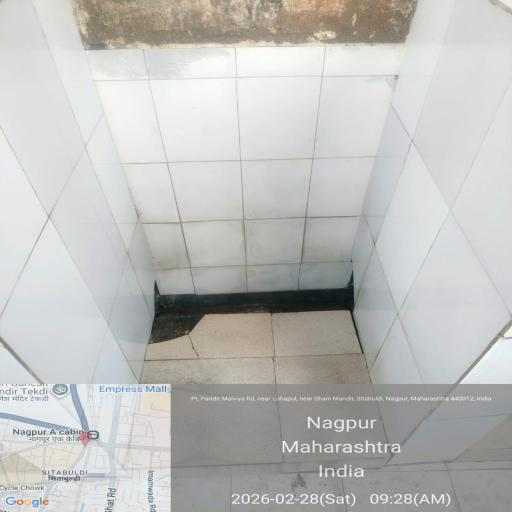clean_floor: (3, 84, 491, 210)
damage: (114, 306, 204, 342)
partial_dirty_floor: (97, 207, 391, 314), (56, 0, 425, 78), (124, 327, 416, 392)
